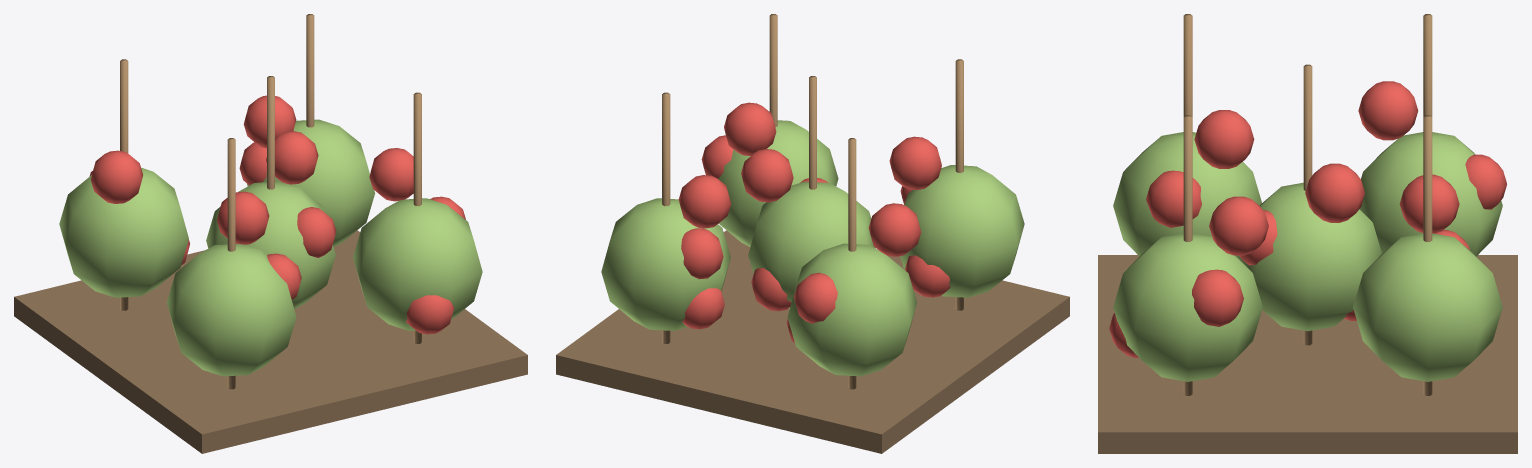
File: world_crop_tomato.glb
3 renders of one model, left to right at view 1: azimuth 30°, elevation 25°; view 2: azimuth 150°, elevation 25°; view 3: azimuth 270°, elevation 25°, orthographic. The views are drawn at different scales.
Parts seen in each view (by area): view 1: world_crop_tomato; view 2: world_crop_tomato; view 3: world_crop_tomato.
Boxes of the visible parts, x1,y1,x2,y2 form: world_crop_tomato: [14, 14, 527, 453]; world_crop_tomato: [556, 14, 1069, 453]; world_crop_tomato: [1098, 14, 1517, 453].
Size of the model in its own units: 1.4 by 1.1 by 1.4.
